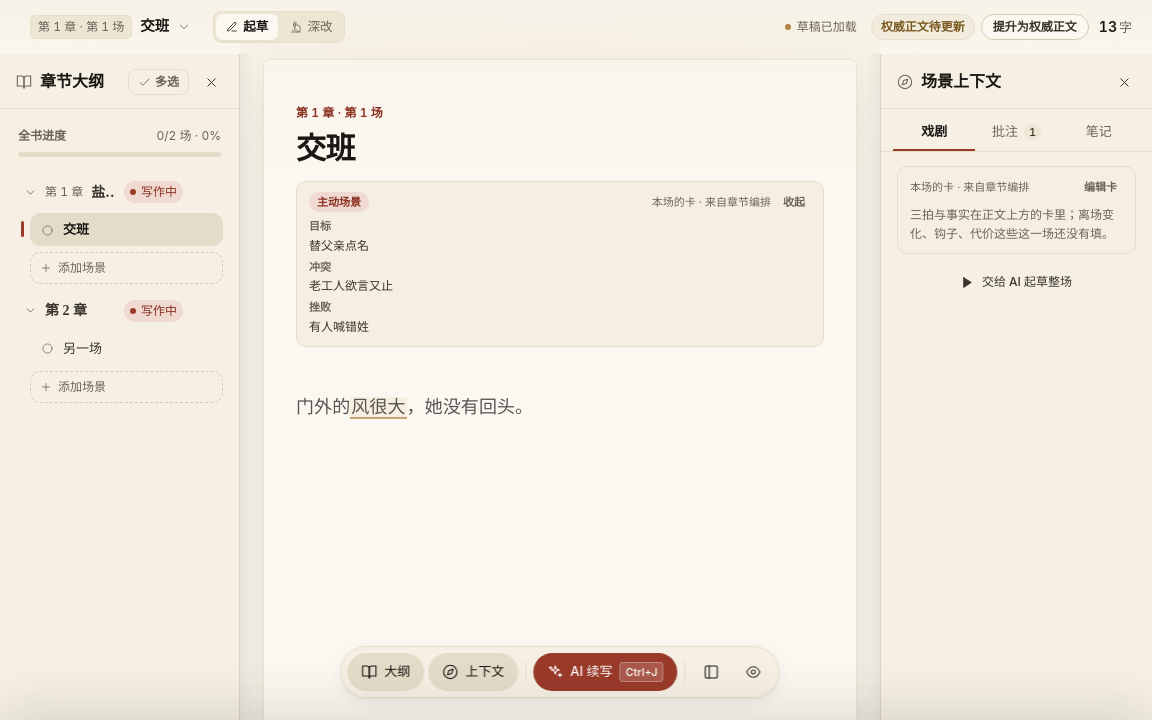
Scenario: 写作台 · 批注存在本机浏览器 › 还没到自动保存就点那一条：标注已经不在正文里，清单当场改成「找不到原文」
Expected: the text box with class "wr-anno" is shown, [350,397,407,419]
Click the tab "批注 1": {"x": 1016, "y": 132} [975,113,1058,150]
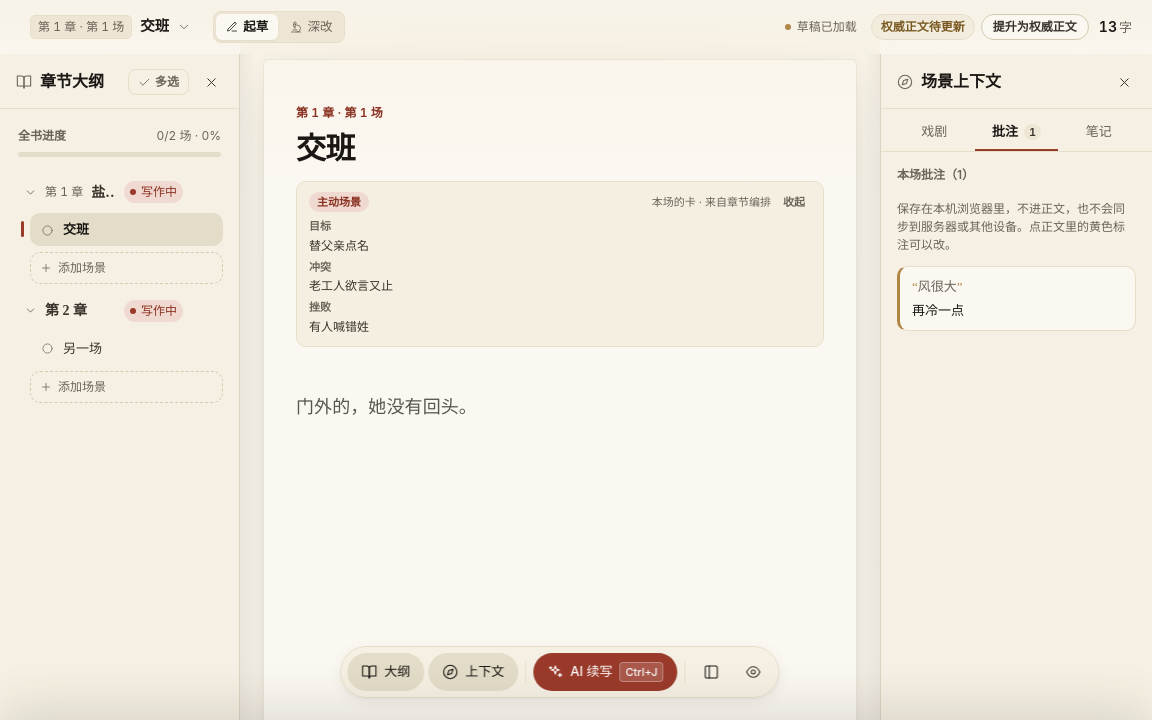
Click the button with class "wr-anno-item": {"x": 1016, "y": 298} [897,266,1136,331]
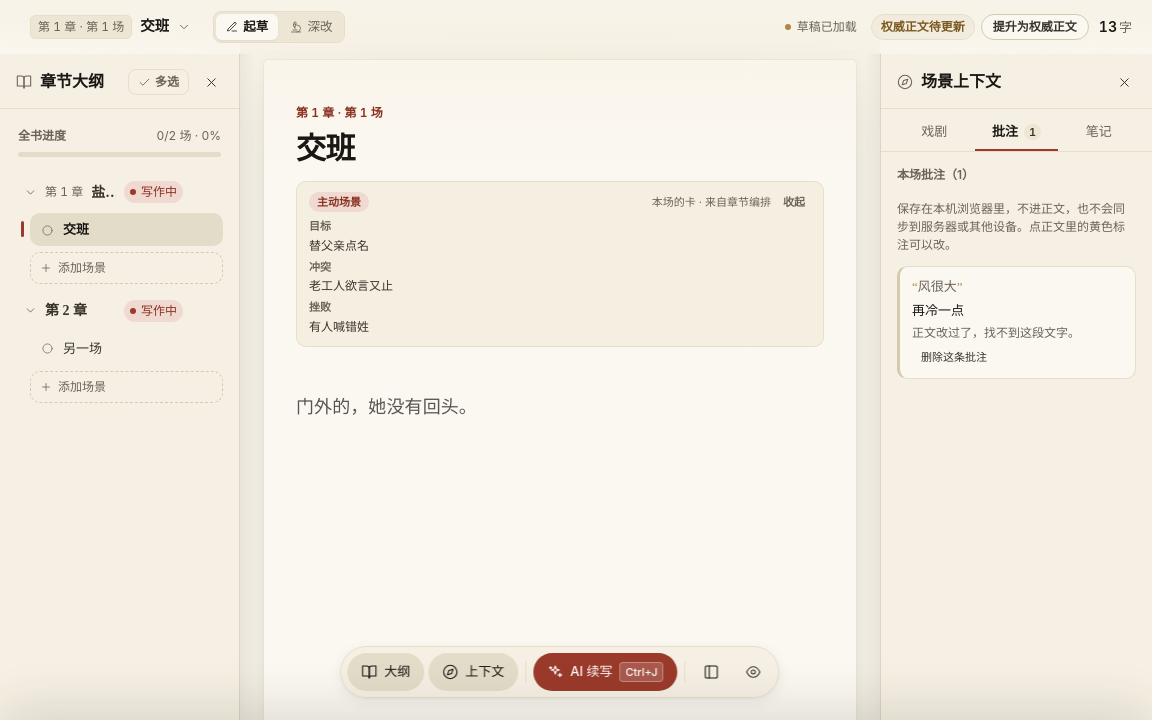
Now the element with class "is-lost" is shown, box [897,266,1136,379]
